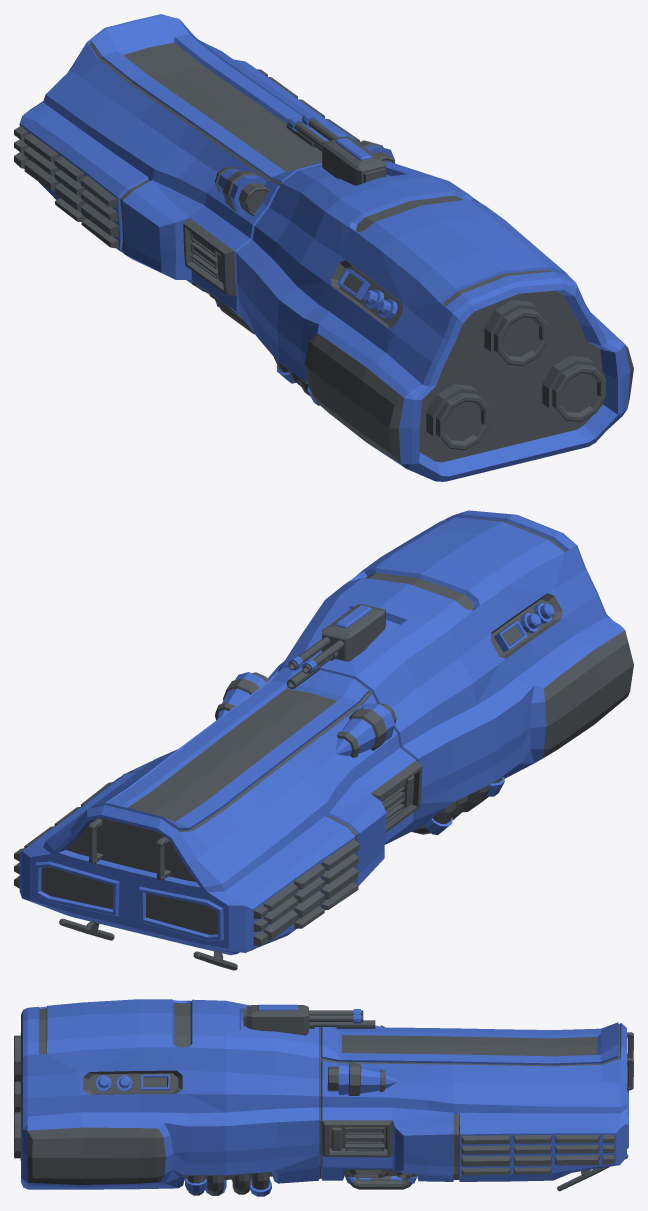
The model's file is Dropship_03_Blue.fbx.
3 views of the same model, one above another, from view 1: azimuth 30°, elevation 25°; view 2: azimuth 150°, elevation 25°; view 3: azimuth 270°, elevation 25° (orthographic). The views are drawn at different scales.
Parts seen in each view (by area): view 1: Dropship_03_Blue; view 2: Dropship_03_Blue; view 3: Dropship_03_Blue.
Boxes of the visible parts, bbox=[...] form: Dropship_03_Blue: bbox=[14, 14, 633, 481]; Dropship_03_Blue: bbox=[14, 510, 633, 970]; Dropship_03_Blue: bbox=[14, 999, 633, 1196].
Size of the model in its own units: 395 by 322 by 1085.
Materials: 2 (2 with a texture image).
